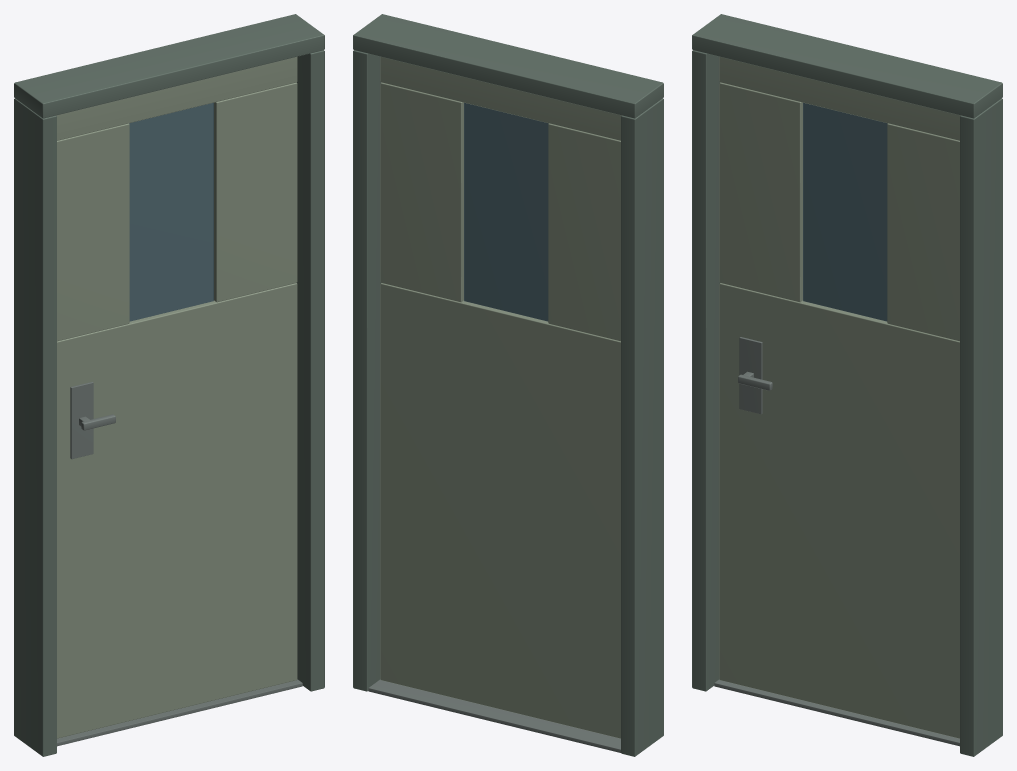
Rendered from Diner_Staff_Door.fbx.
The picture shows the model from 3 angles, left to right: view 1: azimuth 30°, elevation 25°; view 2: azimuth 150°, elevation 25°; view 3: azimuth 330°, elevation 25°; orthographic projection.
Parts seen in each view (by area): view 1: Diner_Staff_Door_Door_Leaf, Diner_Staff_Door_Frame; view 2: Diner_Staff_Door_Door_Leaf, Diner_Staff_Door_Frame; view 3: Diner_Staff_Door_Door_Leaf, Diner_Staff_Door_Frame.
Part boxes in pixels (x1=…): Diner_Staff_Door_Door_Leaf: x1=56, y1=56, x2=297, y2=738; Diner_Staff_Door_Frame: x1=14, y1=14, x2=324, y2=756; Diner_Staff_Door_Door_Leaf: x1=380, y1=56, x2=621, y2=738; Diner_Staff_Door_Frame: x1=353, y1=14, x2=663, y2=756; Diner_Staff_Door_Door_Leaf: x1=719, y1=56, x2=960, y2=738; Diner_Staff_Door_Frame: x1=692, y1=14, x2=1002, y2=756.
Bounding box in the file's own units: 0.95 × 2.1 × 0.17.
